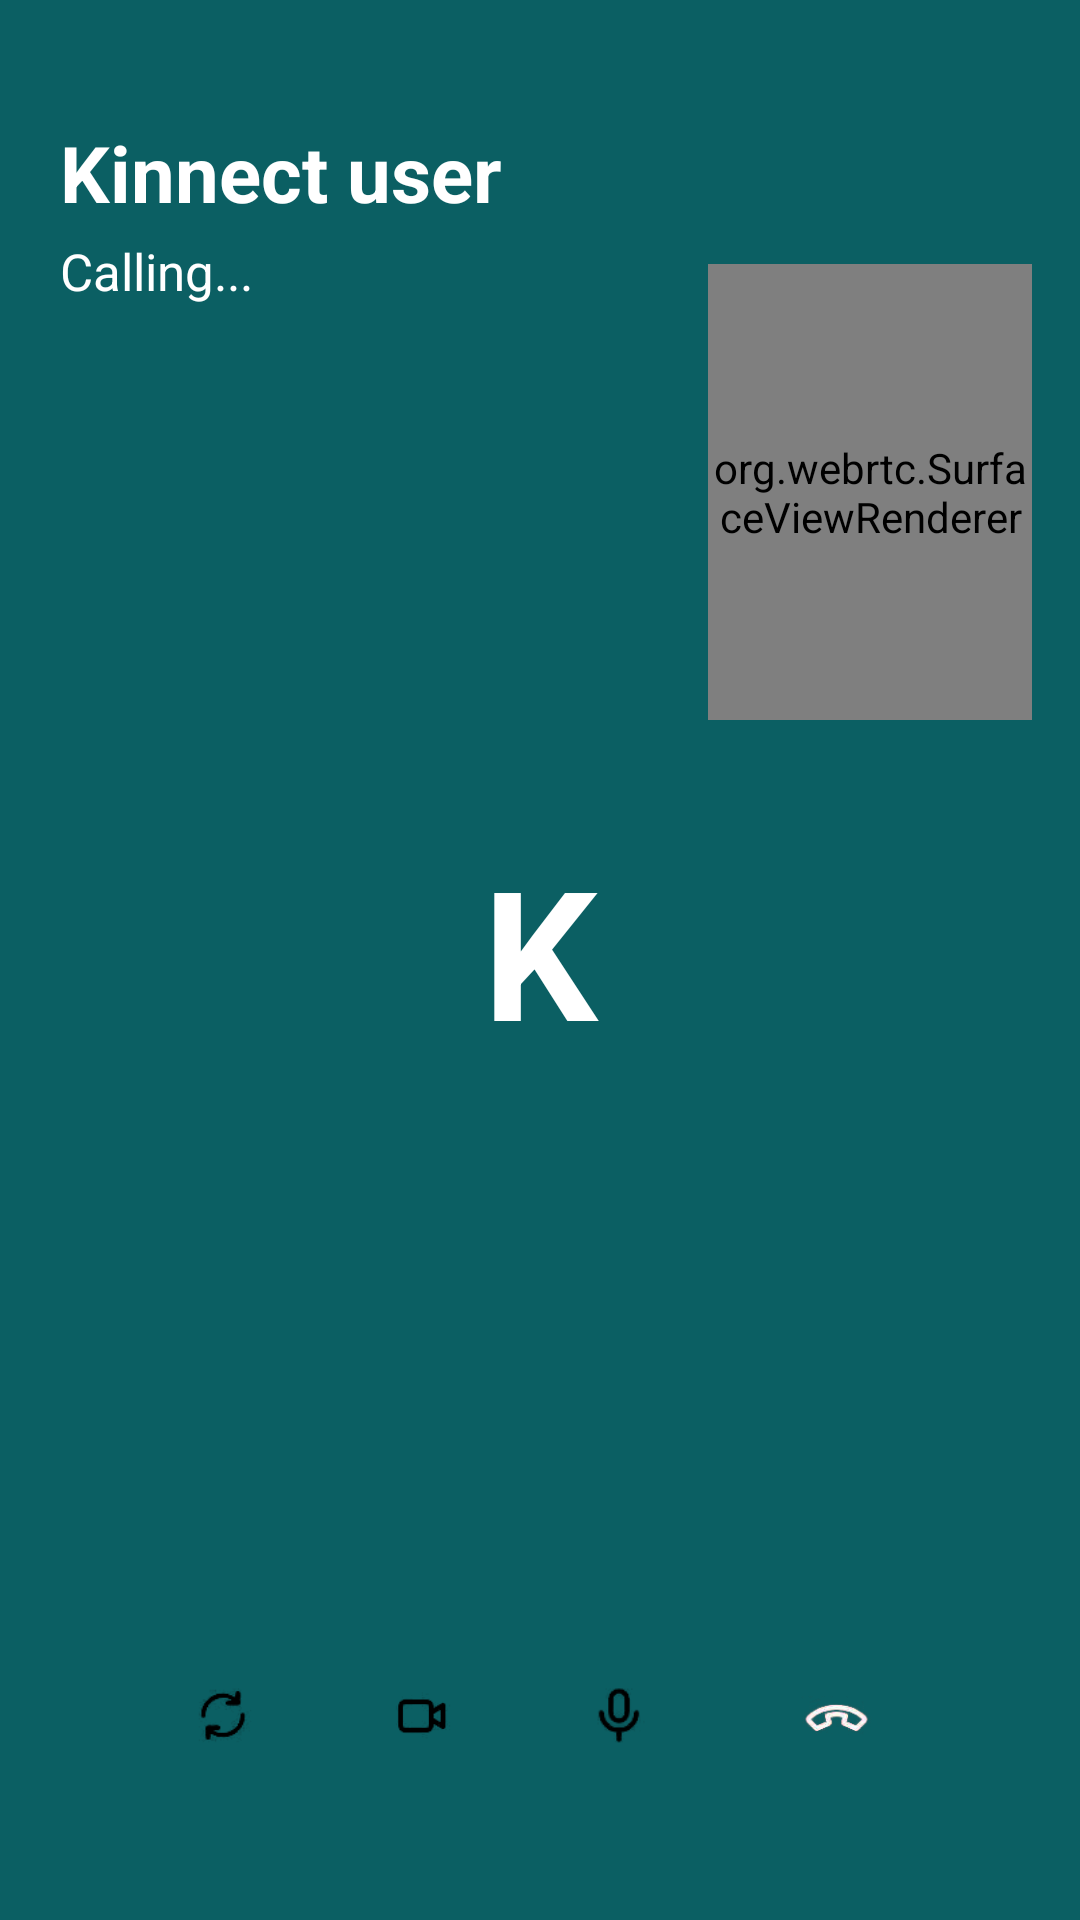

Where icons sit on this 1080 x 1920 app screen, as (x1, y1, x2, y2):
End call: (805, 1704, 868, 1732)
Mute: (598, 1688, 639, 1742)
Switch camera: (201, 1691, 245, 1740)
Turn camera on or off: (398, 1699, 446, 1733)
